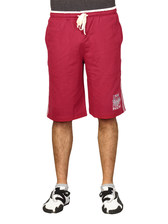clothoes: (35, 5, 131, 123)
shoes: (37, 176, 79, 217), (91, 180, 135, 213)
